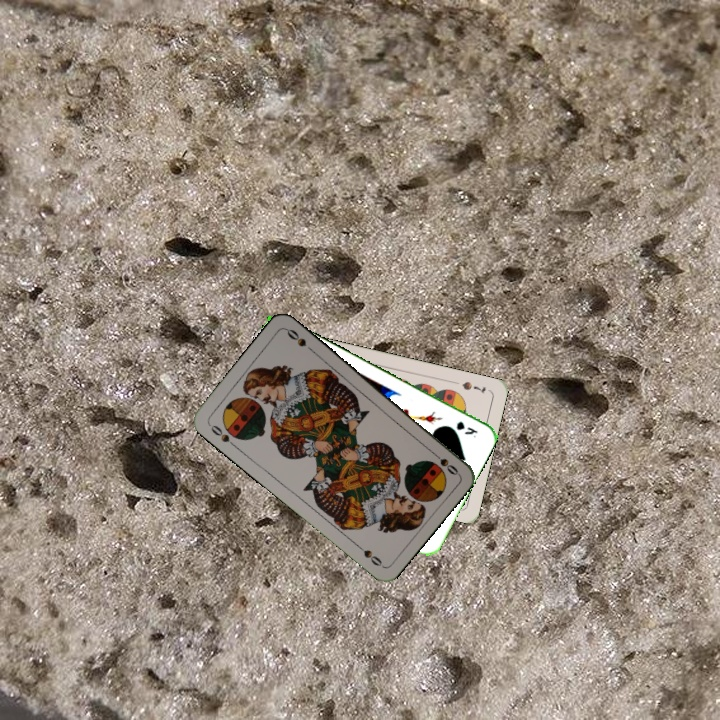GK: (452, 417, 480, 441)
S7: (458, 377, 488, 395)
SO: (204, 419, 239, 450), (427, 447, 461, 478)
